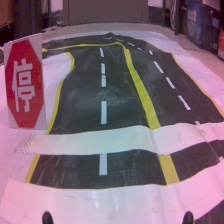stop: (2, 32, 52, 131)
